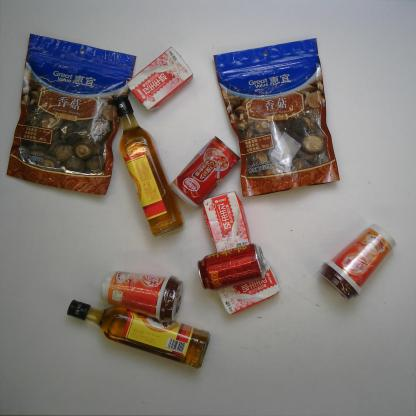Canned Food: (169, 134, 242, 212)
Dried Food: (4, 31, 138, 197), (211, 35, 342, 198)
Drink: (194, 242, 269, 292)
Instant Drink: (315, 222, 398, 303), (97, 269, 185, 324)
Milk: (124, 44, 196, 114), (216, 259, 282, 316), (200, 189, 252, 255)
Seasoner: (112, 94, 187, 238), (64, 298, 212, 370)
